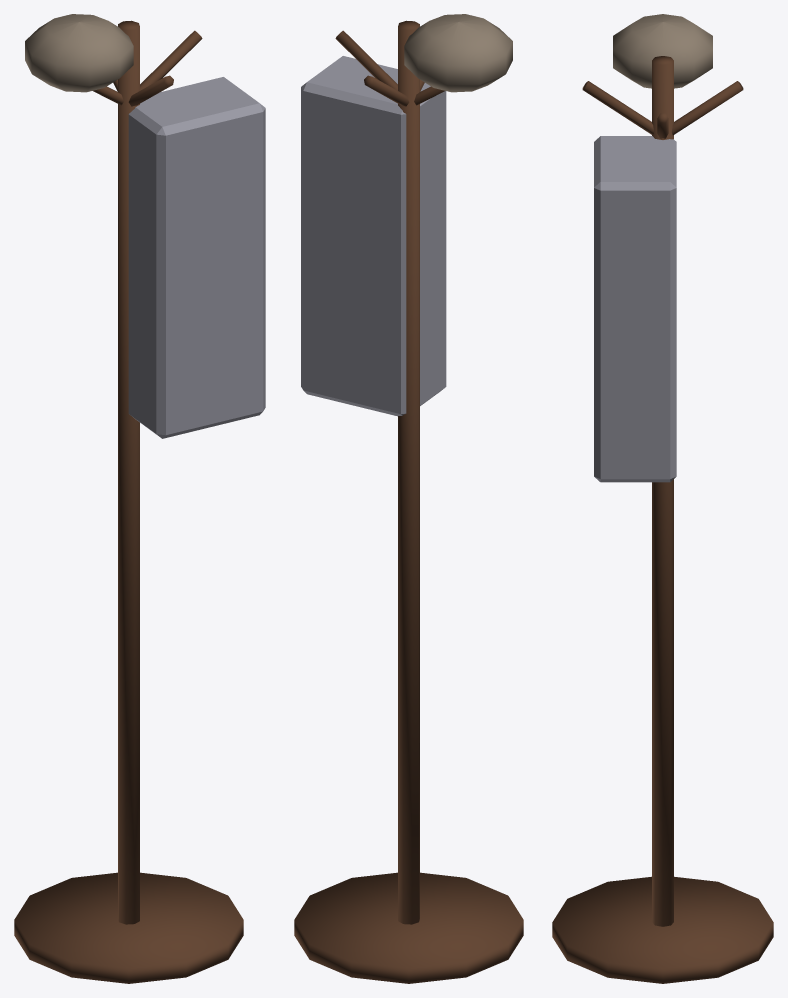
File: coat_rack.glb
3 renders of one model, left to right at view 1: azimuth 30°, elevation 25°; view 2: azimuth 150°, elevation 25°; view 3: azimuth 270°, elevation 25°, orthographic. The views are drawn at different scales.
Parts seen in each view (by area): view 1: coat_rack; view 2: coat_rack; view 3: coat_rack.
Boxes of the visible parts, left/top/right/bottom form: coat_rack: left=14, top=14, right=265, bottom=983; coat_rack: left=294, top=14, right=523, bottom=983; coat_rack: left=552, top=14, right=773, bottom=983.
Size of the model in its own units: 0.41 by 1.78 by 0.4.
